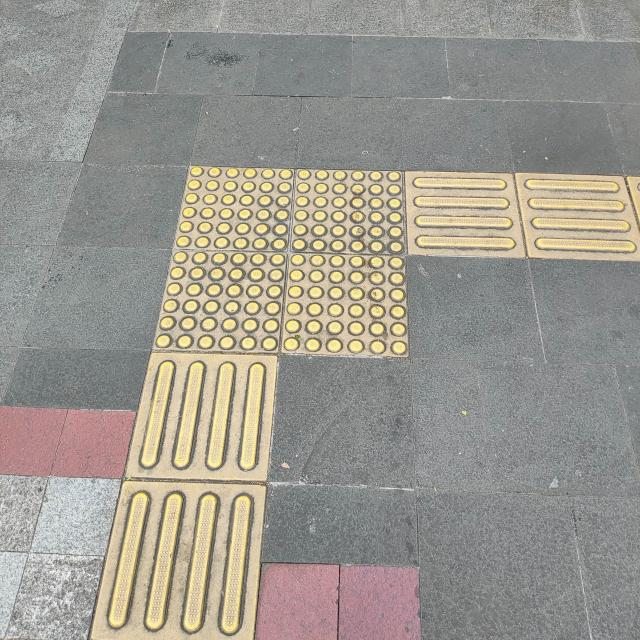kanan: (83, 107, 640, 432)
